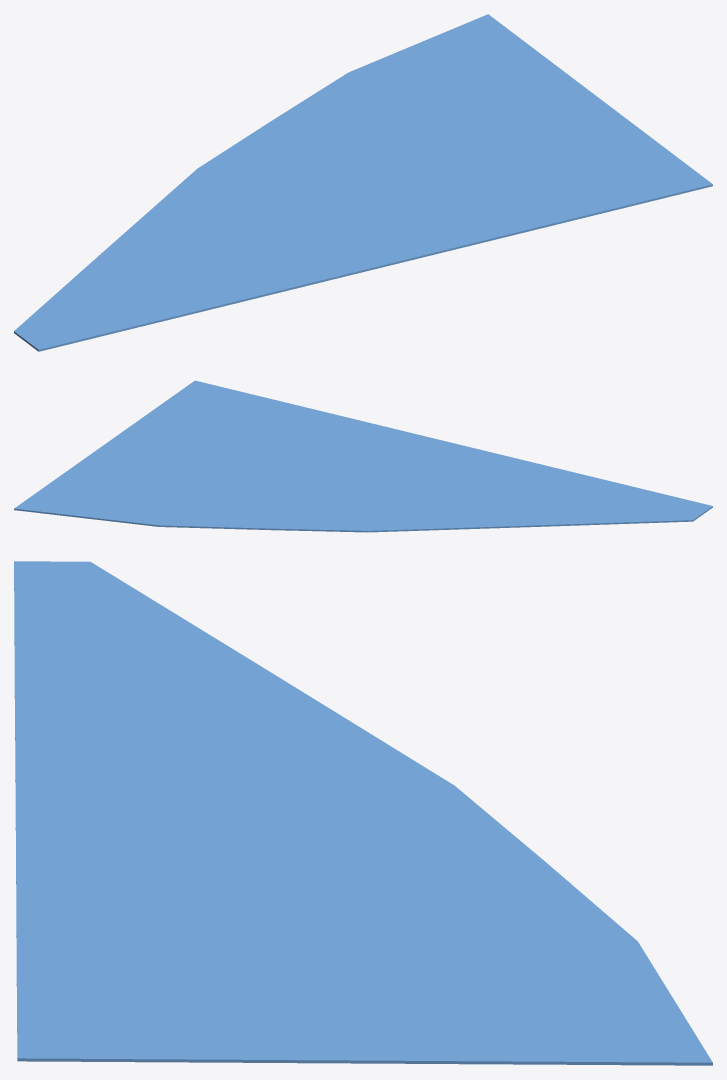
3 views of the same model, one above another, from view 1: azimuth 30°, elevation 25°; view 2: azimuth 150°, elevation 25°; view 3: azimuth 270°, elevation 25° (orthographic). The views are drawn at different scales.
Bounding box in the file's own units: 1096 × 3.05 × 645.
